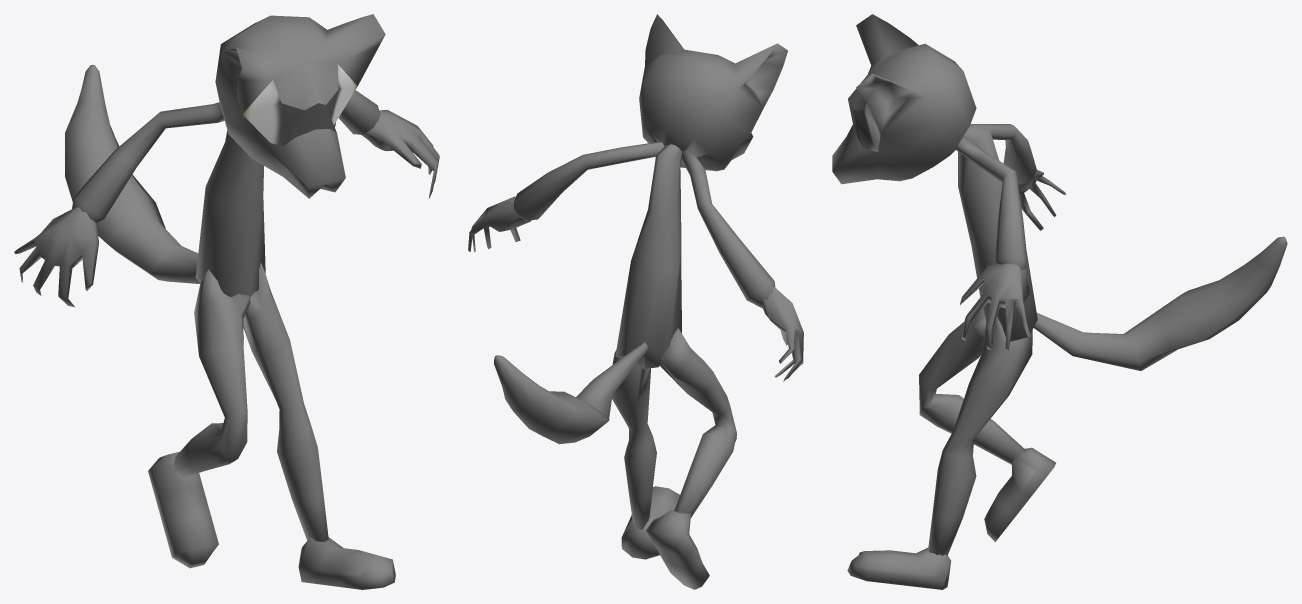
File: werewolfjump2.obj
3 views of the same model, side by side, from view 1: azimuth 30°, elevation 25°; view 2: azimuth 150°, elevation 25°; view 3: azimuth 270°, elevation 25° (orthographic). The views are drawn at different scales.
Parts seen in each view (by area): view 1: Sphere001, Object001; view 2: Sphere001; view 3: Sphere001, Object001.
Part boxes in pixels (box(x1,y1,x2,y2)): Sphere001: box(14, 14, 439, 589); Object001: box(242, 64, 357, 145); Sphere001: box(468, 14, 803, 589); Sphere001: box(832, 14, 1287, 589); Object001: box(848, 99, 880, 151).
Bounding box in the file's own units: 105 × 149 × 118.
